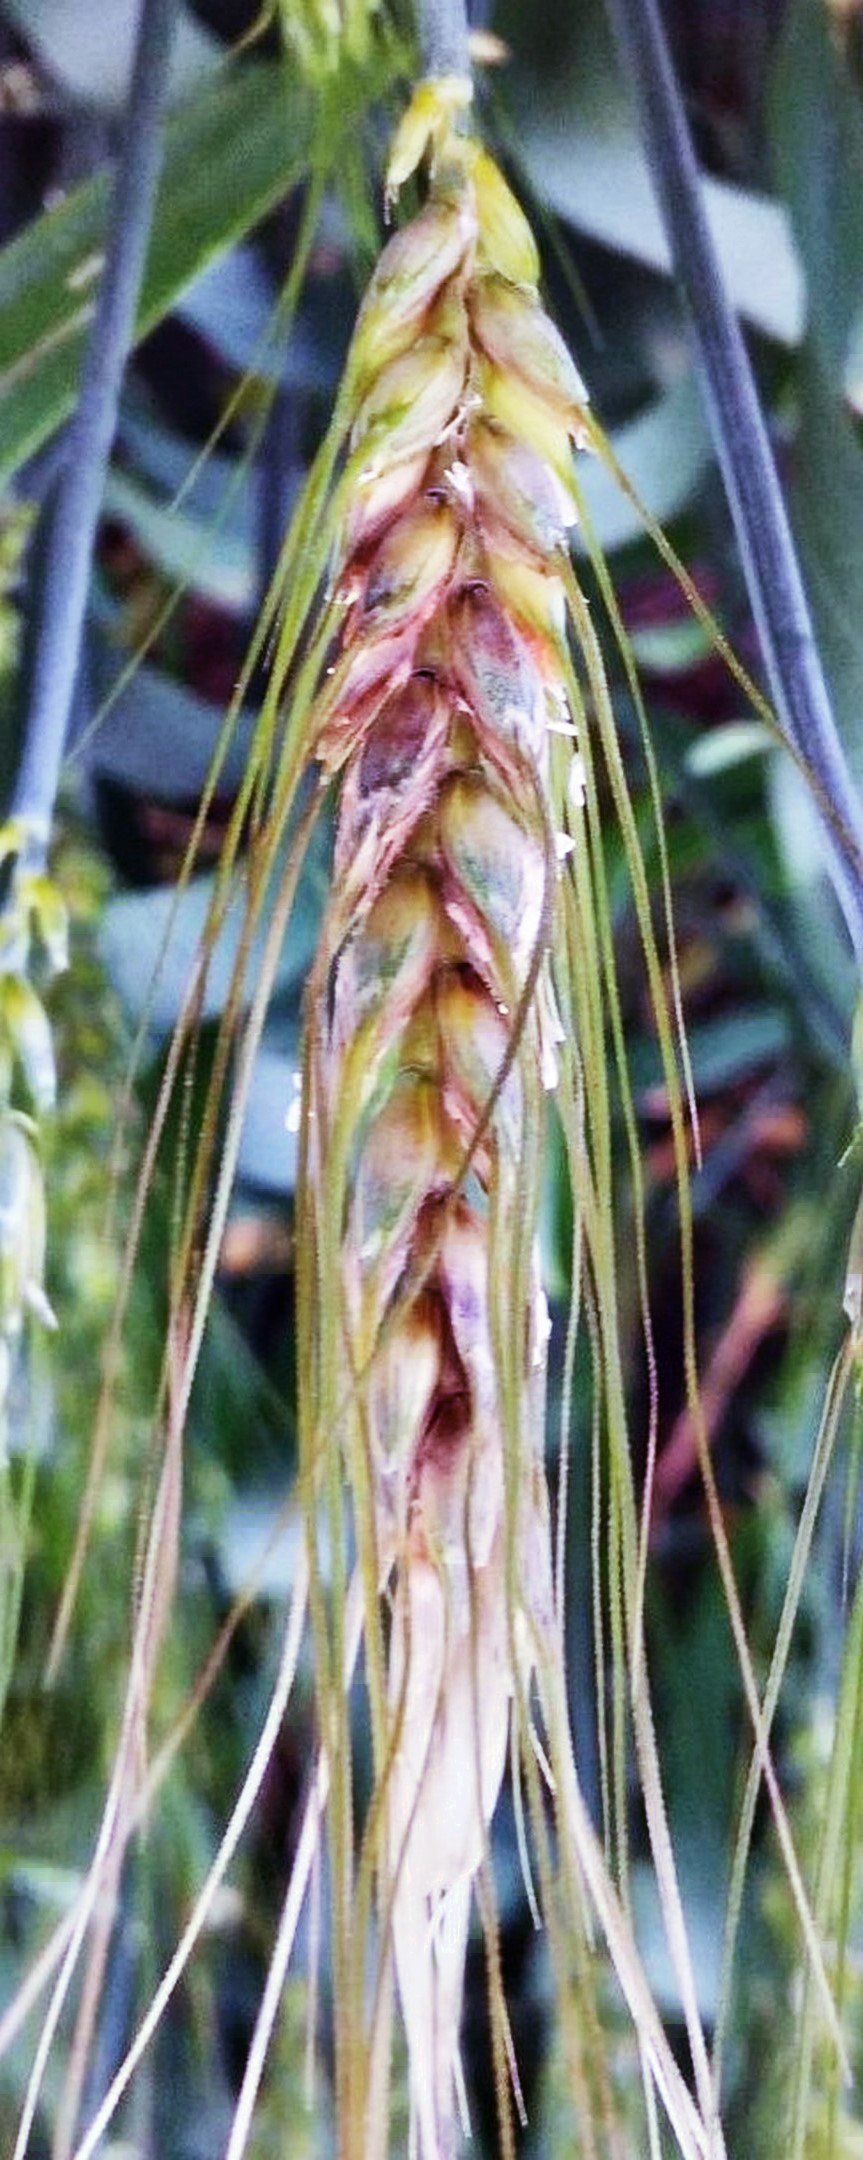Wheat scab: (237, 136, 698, 1810)
